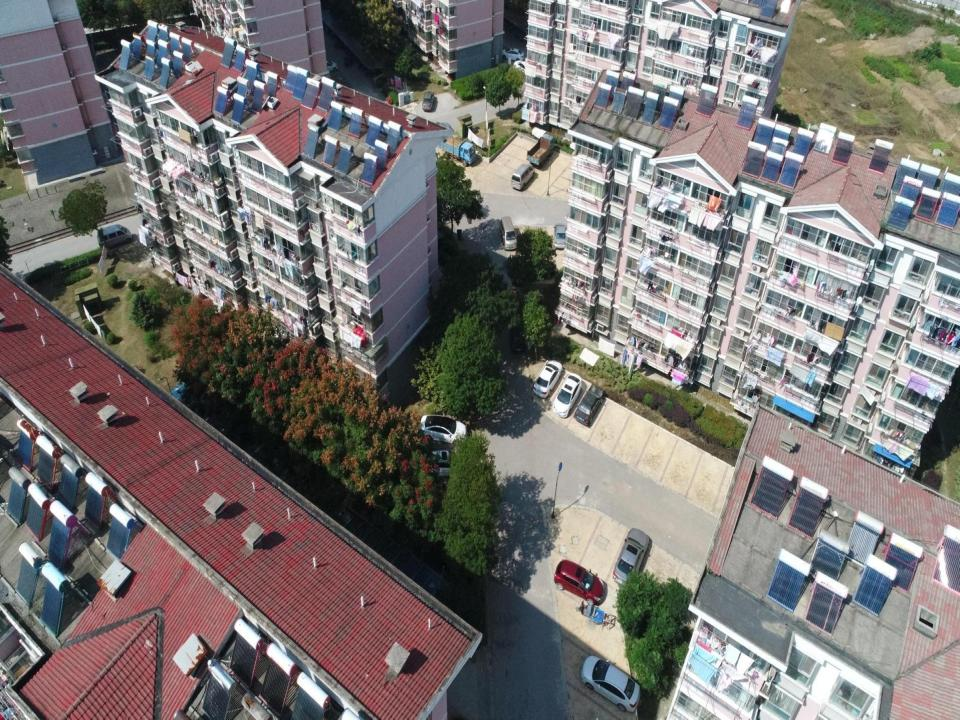car: (581, 656, 641, 714), (555, 558, 604, 606), (612, 525, 649, 588), (552, 371, 582, 419), (420, 414, 466, 445), (573, 384, 605, 426), (532, 355, 562, 399), (424, 449, 468, 477), (509, 314, 526, 354), (554, 223, 566, 249), (502, 49, 525, 61), (422, 91, 434, 111), (514, 61, 527, 72)
truck: (439, 135, 476, 167), (526, 134, 557, 168)
van: (97, 224, 132, 248), (510, 163, 539, 191), (500, 216, 518, 250)
